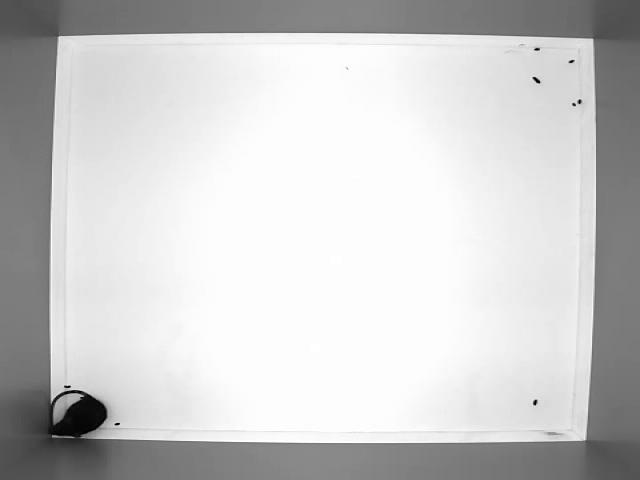Tikus: (49, 388, 110, 439)
